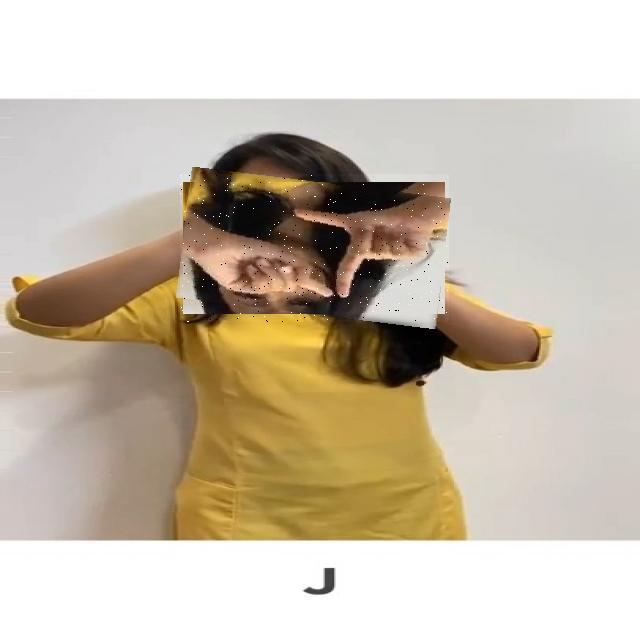J: (180, 174, 449, 322)
